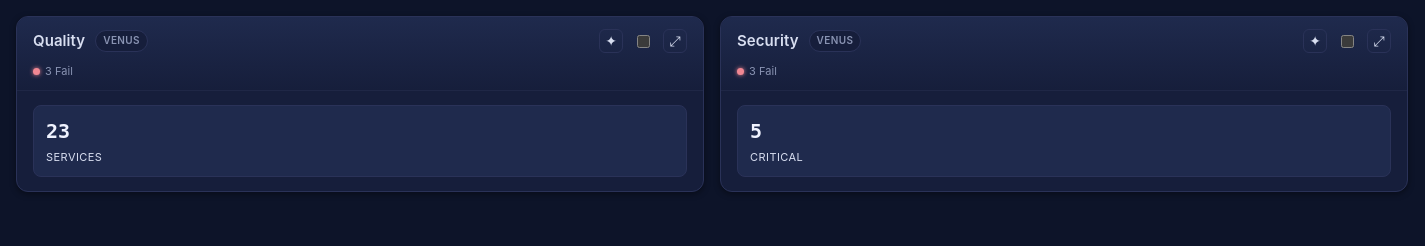
Test: Surface › flipping hideRegionActions on clears a stale selection and its bar
The width and height of the screenshot is (1425, 246).
Click the checkbox named "Select panel for multi-panel explore" in the row of "Quality". click: [644, 41]
box: [637, 34, 650, 48]
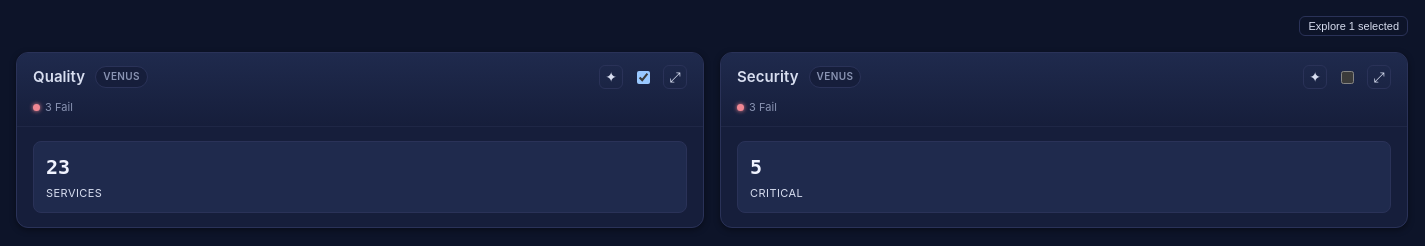
Expected: the button "Explore 1 selected" is shown, [1300, 16, 1408, 36]
